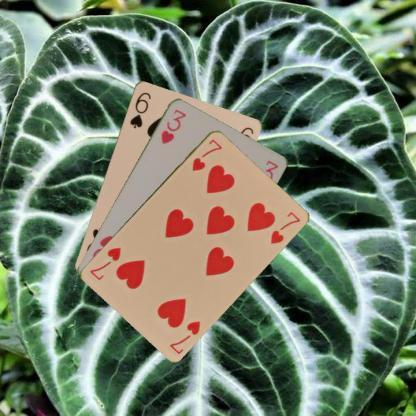3h: (158, 106, 188, 146)
6s: (127, 89, 152, 129)
7h: (188, 136, 224, 172), (167, 318, 202, 355)
